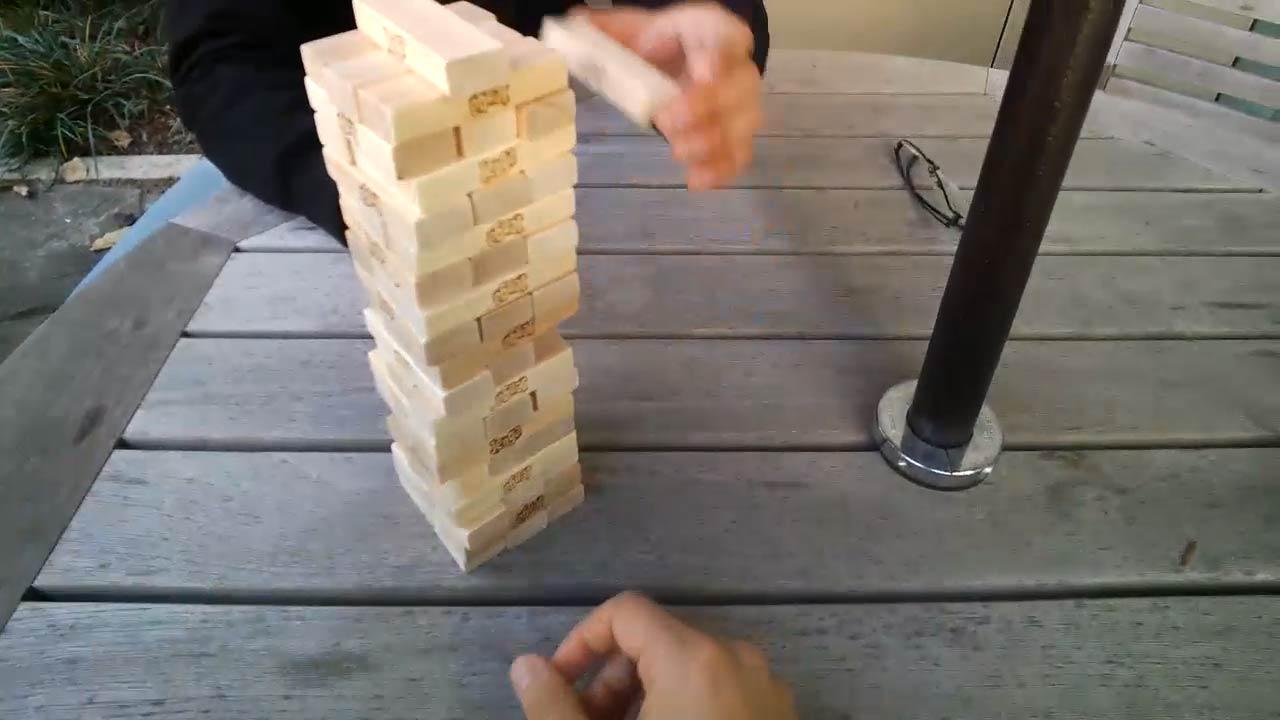hand: (500, 586, 822, 720), (564, 1, 764, 191)
